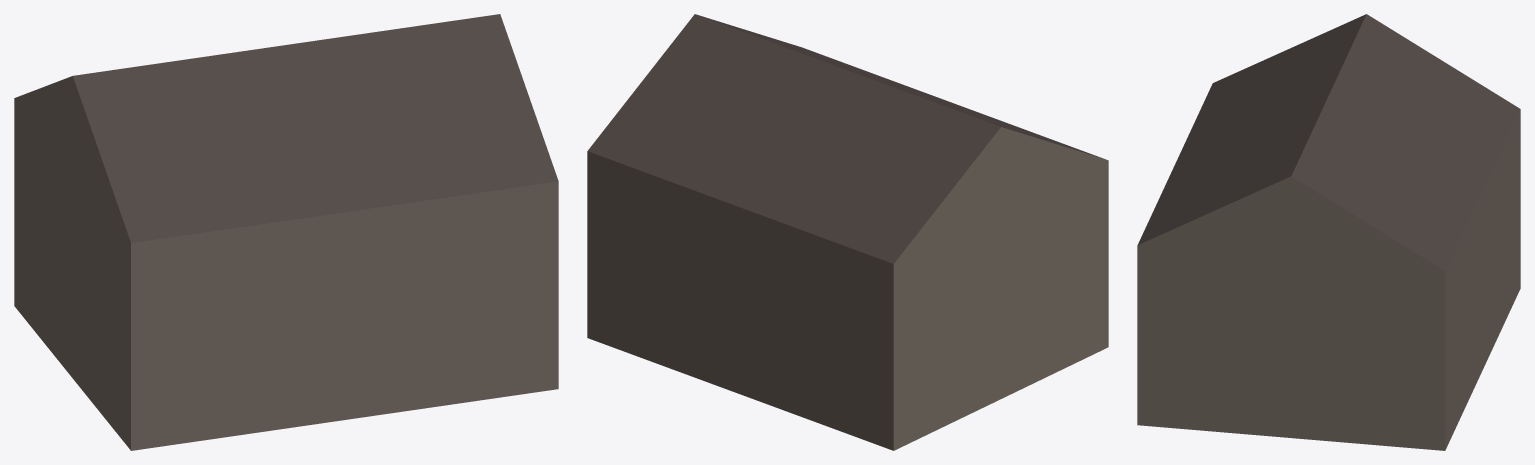
3 renders of one model, left to right at view 1: azimuth 30°, elevation 25°; view 2: azimuth 150°, elevation 25°; view 3: azimuth 270°, elevation 25°, orthographic. The views are drawn at different scales.
Visible parts, largest first — view 1: HP-w859082534; view 2: HP-w859082534; view 3: HP-w859082534.
Part boxes in pixels (x1,y1,x2,y2): HP-w859082534: (14, 14, 558, 450); HP-w859082534: (587, 14, 1108, 450); HP-w859082534: (1137, 14, 1520, 450).
Bounding box in the file's own units: 20.17 × 13.11 × 17.37.
